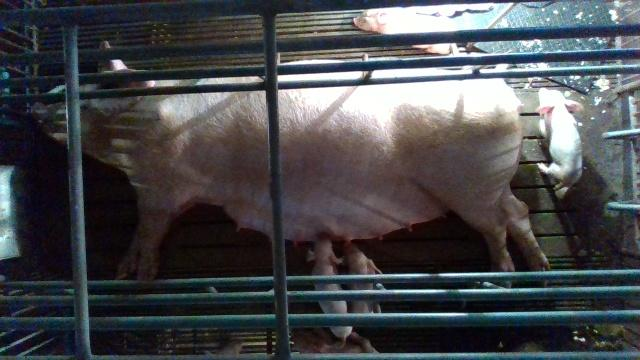piglet: (306, 231, 352, 347), (536, 87, 583, 200), (353, 8, 457, 55), (342, 240, 385, 312)
sow-sleep-lactate: (32, 43, 549, 288)
